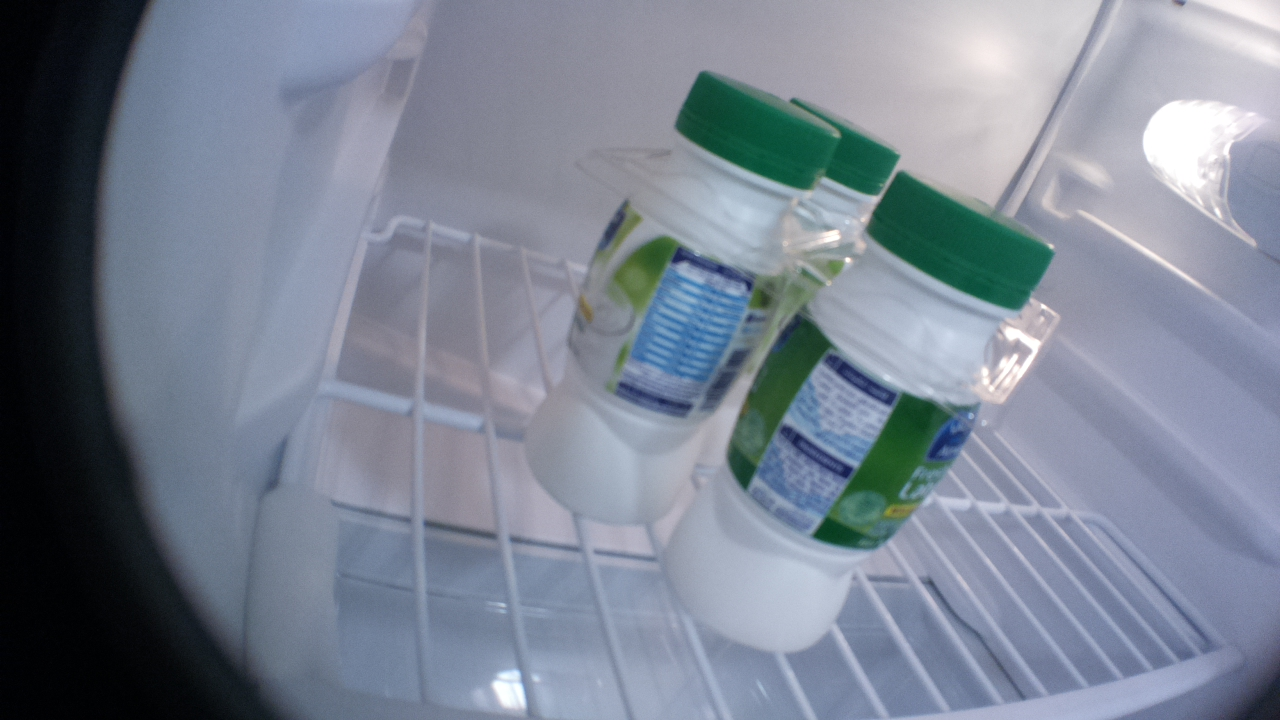laban: (654, 167, 1061, 650), (518, 67, 845, 526), (791, 94, 902, 203)
